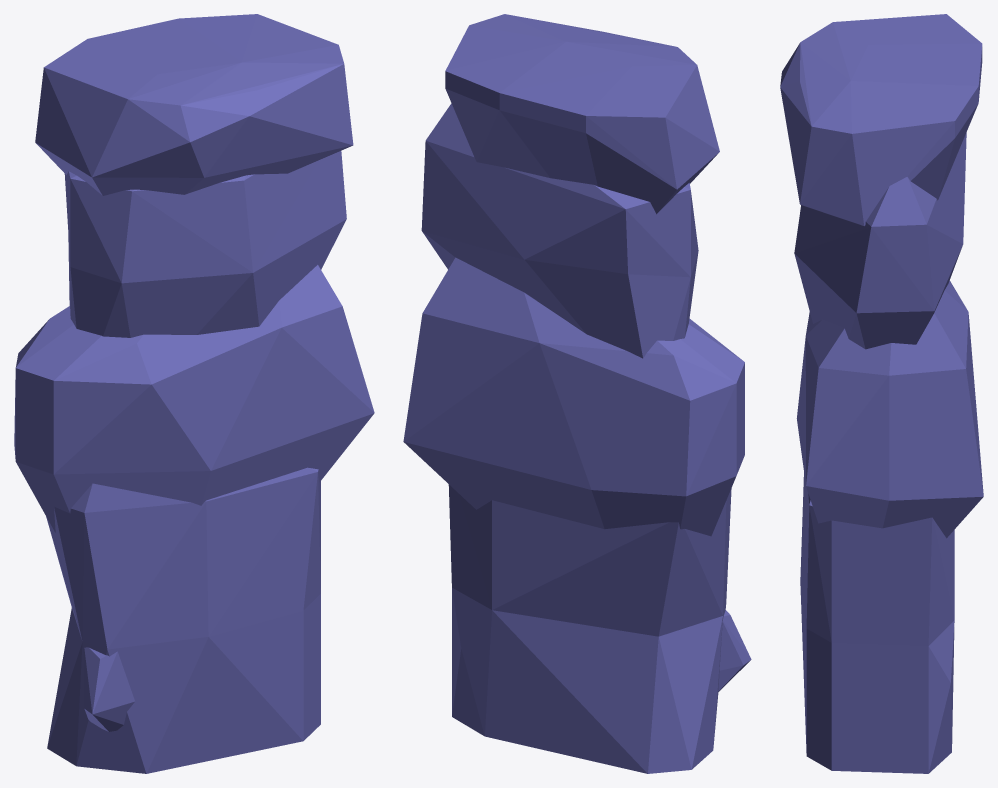
File: Cliff_Fin_02_Collider_01.FBX
3 renders of one model, left to right at view 1: azimuth 30°, elevation 25°; view 2: azimuth 150°, elevation 25°; view 3: azimuth 270°, elevation 25°, orthographic. The views are drawn at different scales.
Parts seen in each view (by area): view 1: COLLIDER3, COLLIDER1, COLLIDER4, COLLIDER5, COLLIDER2, COLLIDER6; view 2: COLLIDER3, COLLIDER1, COLLIDER4, COLLIDER2, COLLIDER5, COLLIDER6; view 3: COLLIDER3, COLLIDER1, COLLIDER4, COLLIDER2, COLLIDER5.
Part boxes in pixels (<box>): COLLIDER3: <box>14,265,374,532</box>; COLLIDER1: <box>35,14,353,195</box>; COLLIDER4: <box>64,151,346,337</box>; COLLIDER5: <box>46,467,320,649</box>; COLLIDER2: <box>47,594,320,773</box>; COLLIDER6: <box>83,647,134,731</box>; COLLIDER3: <box>403,257,744,536</box>; COLLIDER1: <box>445,14,719,214</box>; COLLIDER4: <box>421,103,698,358</box>; COLLIDER2: <box>452,588,726,773</box>; COLLIDER5: <box>448,484,731,636</box>; COLLIDER6: <box>718,610,751,691</box>; COLLIDER3: <box>796,280,983,538</box>; COLLIDER1: <box>780,14,982,226</box>; COLLIDER4: <box>794,132,966,349</box>; COLLIDER2: <box>800,583,954,773</box>; COLLIDER5: <box>800,472,954,645</box>.
Bounding box in the file's own units: 329 × 672 × 189.
